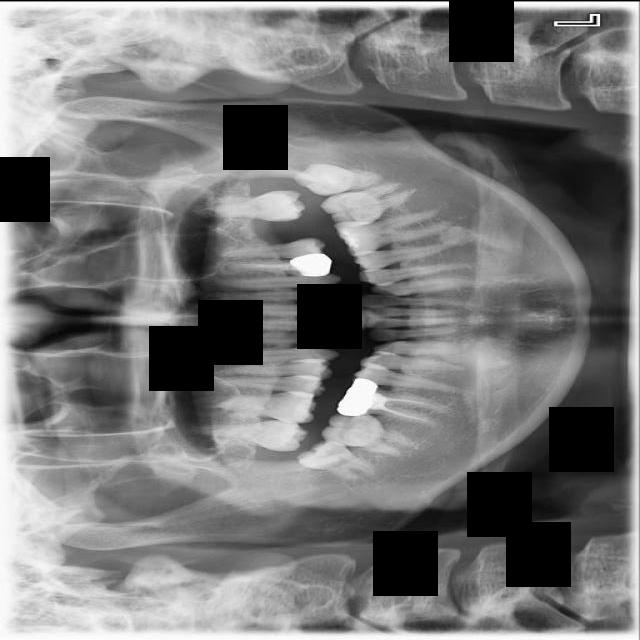52: (333, 206, 388, 263), (333, 370, 387, 427), (288, 248, 335, 281)
73: (372, 387, 444, 429), (226, 258, 291, 274), (546, 30, 554, 38)
BioHorizons Implant: (194, 188, 307, 224)
Biomet 3i Implant: (292, 158, 381, 203)
Blue Sky Bio Implant: (317, 178, 414, 232)
Caries: (193, 417, 309, 452)
Implant: (319, 403, 413, 461)
Keystone Dental Implant: (295, 431, 381, 485)
